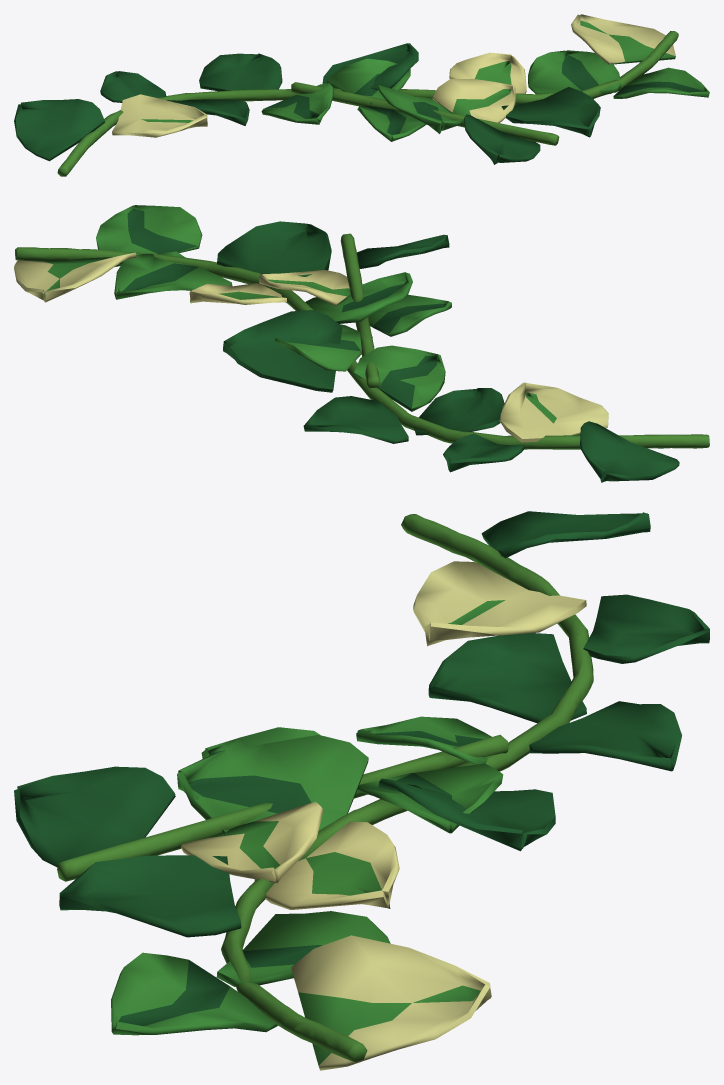
Rendered from canopy_pothos_trail.glb.
The picture shows the model from 3 angles, top to bottom: view 1: azimuth 30°, elevation 25°; view 2: azimuth 150°, elevation 25°; view 3: azimuth 270°, elevation 25°; orthographic projection. The views are drawn at different scales.
Visible parts, largest first — view 1: canopy_pothos_trail; view 2: canopy_pothos_trail; view 3: canopy_pothos_trail.
Boxes of the visible parts, x1=… form: canopy_pothos_trail: x1=14, y1=14, x2=709, y2=176; canopy_pothos_trail: x1=14, y1=205, x2=709, y2=482; canopy_pothos_trail: x1=14, y1=511, x2=709, y2=1070.
Bounding box in the file's own units: 10.11 × 0.6464 × 5.5.
